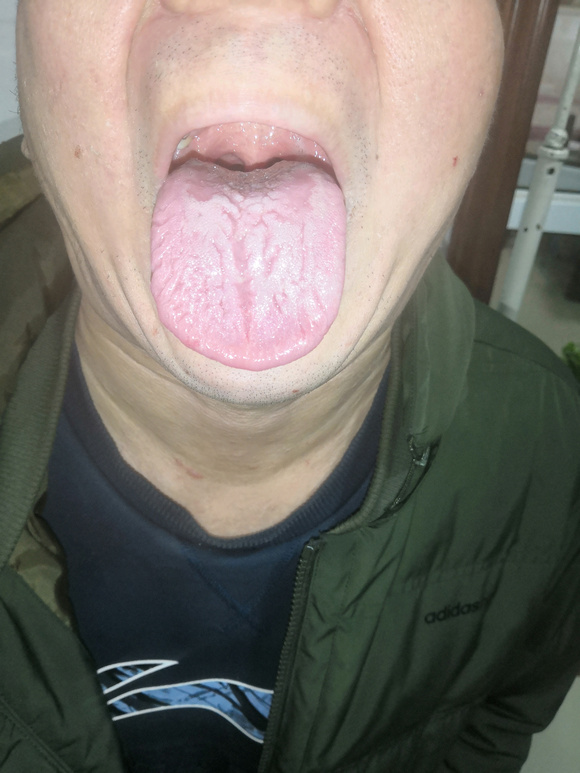baitaishe: (149, 157, 348, 372)
botaishe: (185, 167, 301, 200)
liewenshe: (154, 201, 308, 343)
shenquao: (194, 158, 291, 178)
